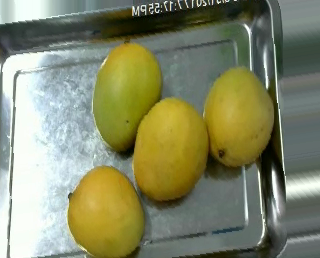Mango: (125, 91, 215, 207), (87, 35, 167, 153), (198, 65, 277, 175), (63, 164, 148, 255)
